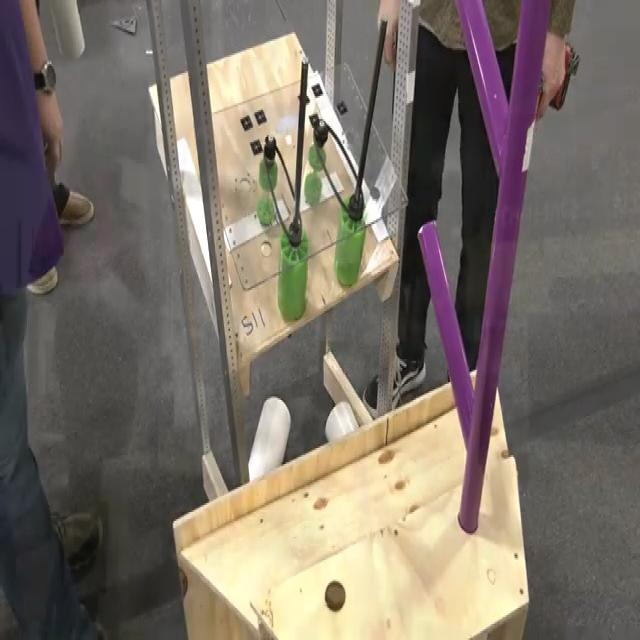Coral: (247, 393, 291, 482), (325, 401, 359, 437)
